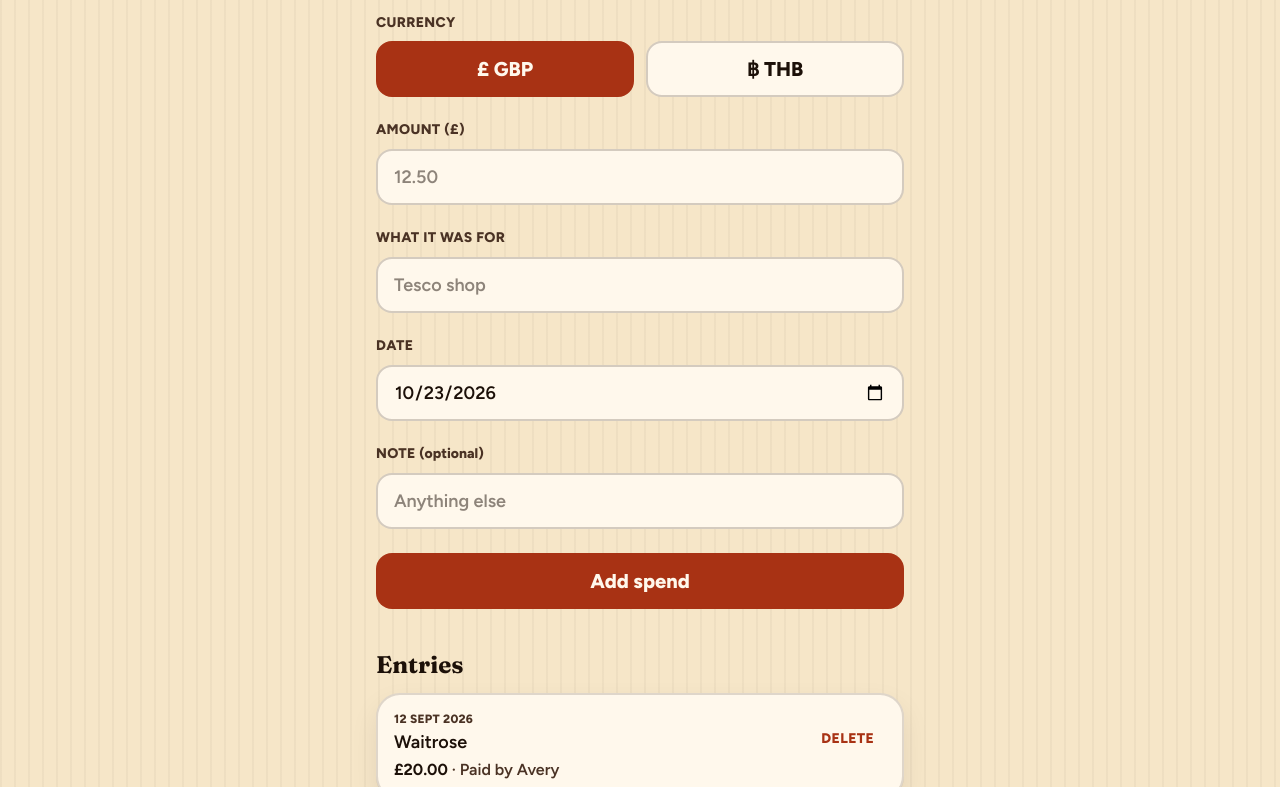
Test: PaymentsTracker › deletes an entry after confirm via the API
(page scrolled)
Expected: the text "Waitrose" is shown, [394,731,467,753]
Click the button with aria-label "delete waitrose". click: {"x": 848, "y": 739}
box: [809,711,886,767]
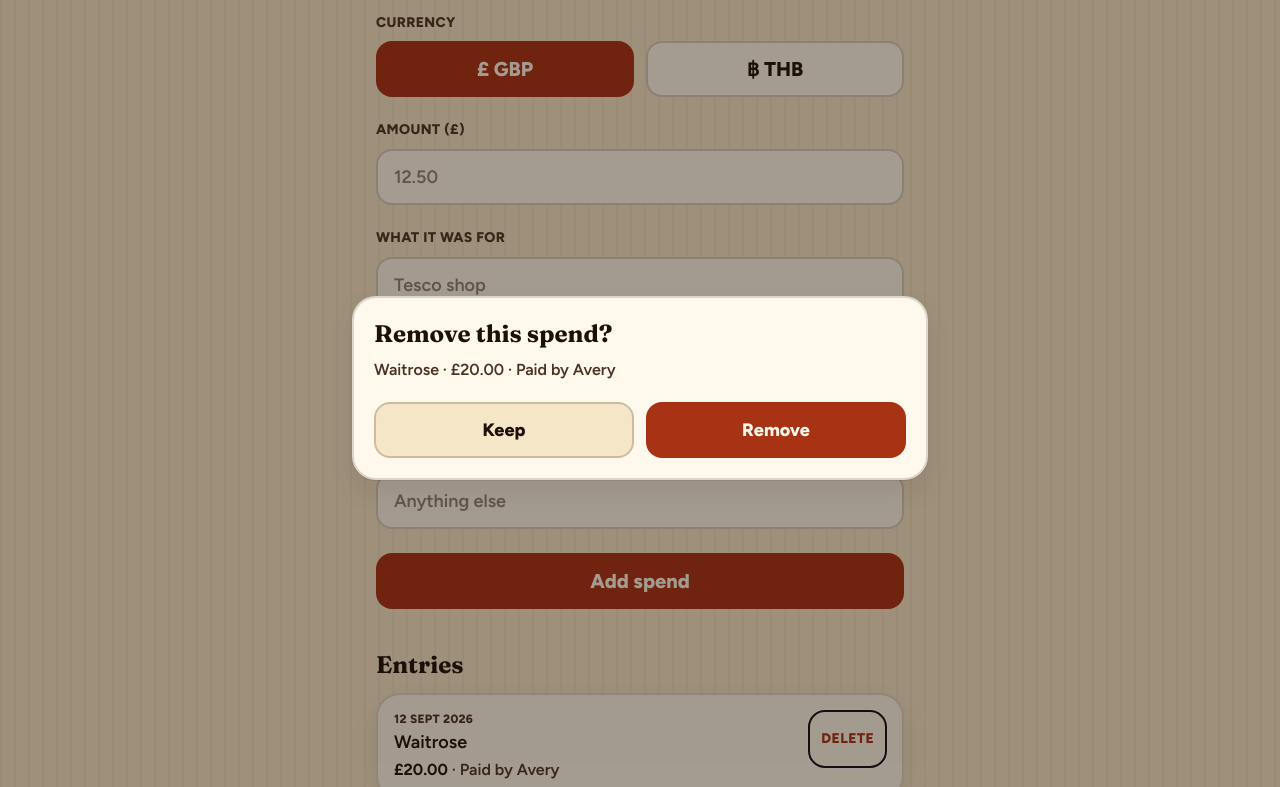
Click the button "Remove". click: {"x": 776, "y": 430}
box: [646,402,906,458]
(page scrolled)
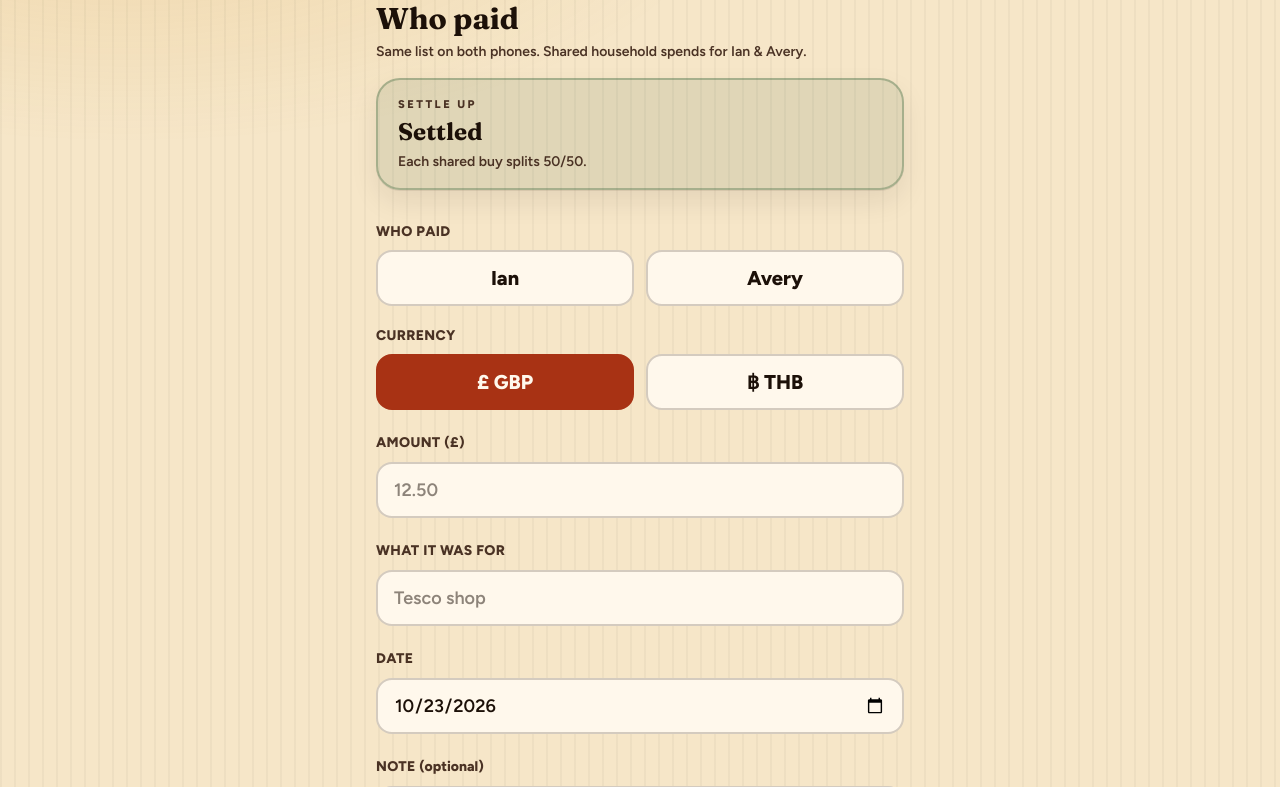
Result: the text "Settled" is shown at [398,117,482,146]
Result: the text "Waitrose" is gone
